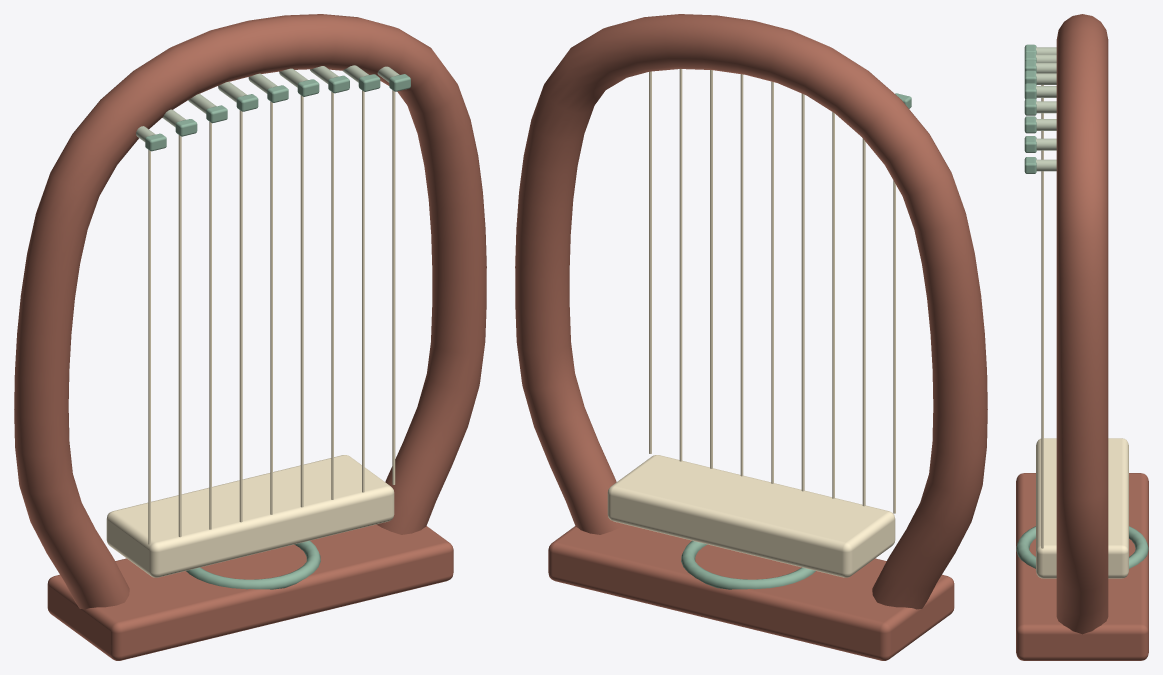
File: enchanted-harp-garden-and-music-sanctuary-lap-harp-d047d9bf__30402.glb
The picture shows the model from 3 angles, left to right: view 1: azimuth 30°, elevation 25°; view 2: azimuth 150°, elevation 25°; view 3: azimuth 270°, elevation 25°; orthographic projection. The views are drawn at different scales.
Visible parts, largest first — view 1: lap-harp; view 2: lap-harp; view 3: lap-harp.
Part boxes in pixels (<box>): lap-harp: <box>14,14,486,660</box>; lap-harp: <box>515,14,987,660</box>; lap-harp: <box>1016,14,1148,660</box>.
Size of the model in its own units: 0.7631 by 0.8994 by 0.2.
